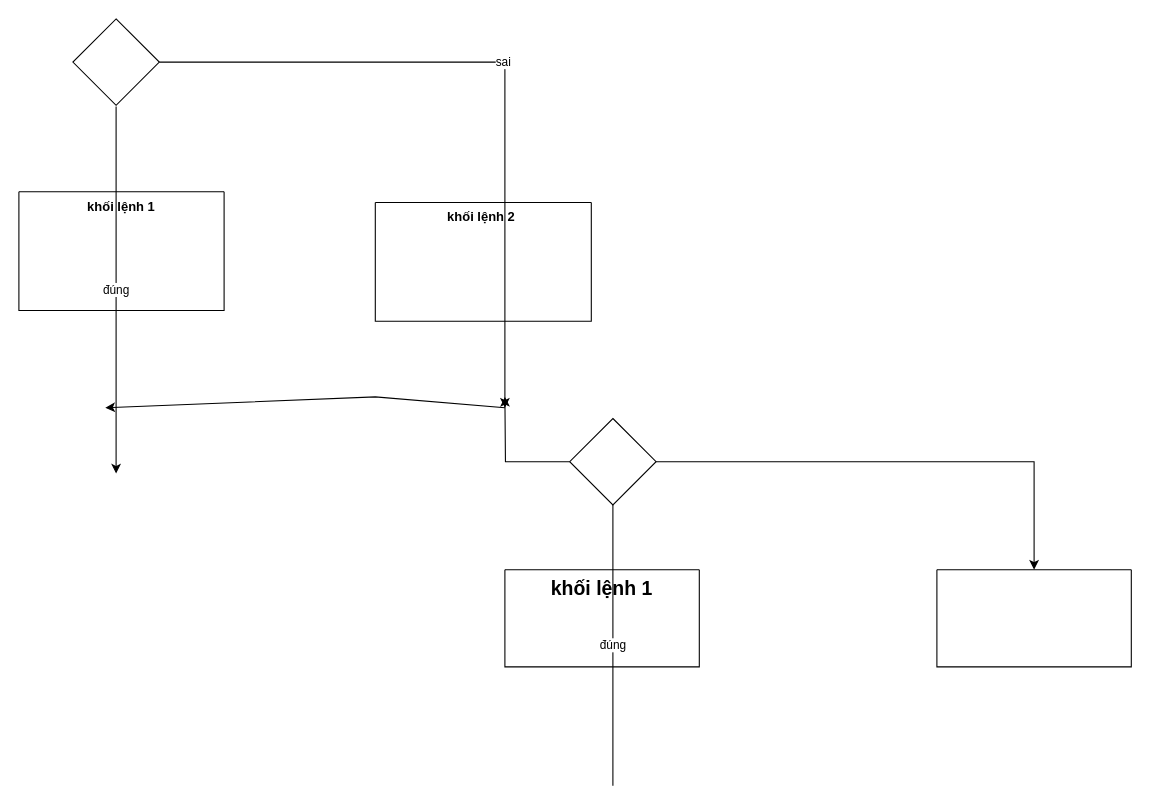
Image size: 1150x806. Some labels were removed from this diagram. The centre of each missing label's shape, as x and y in pixels:
Điều kiện 1: (115,61)
điều kiện2: (612,461)
